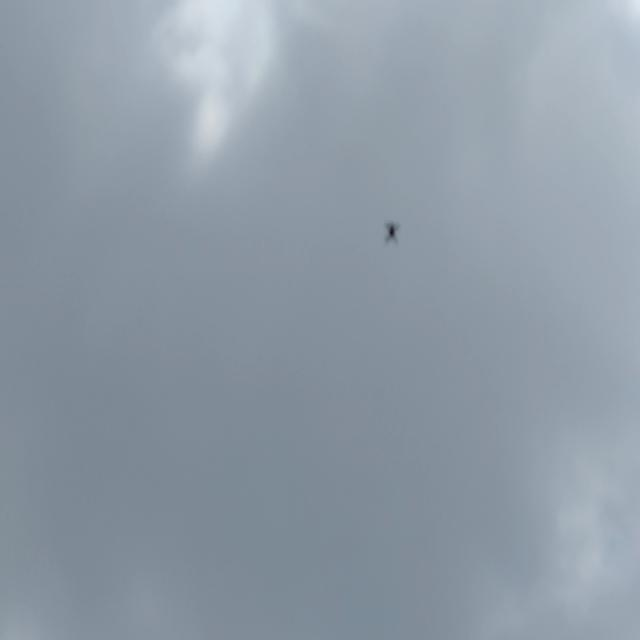drone: (380, 212, 407, 254)
